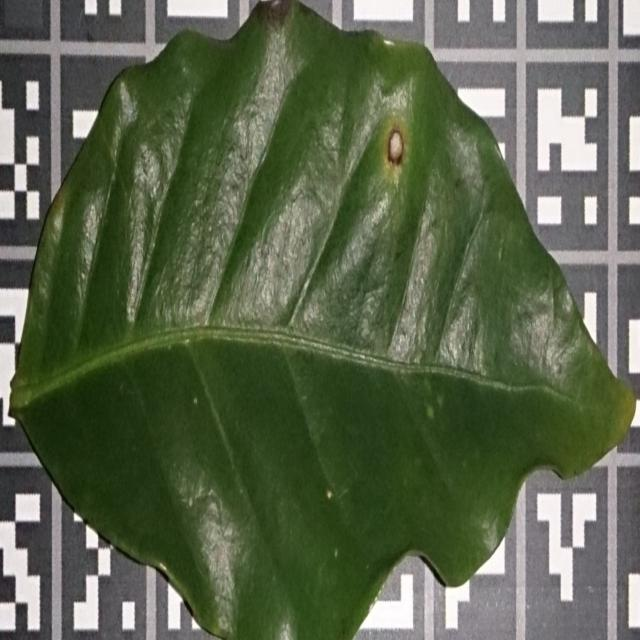Enfermedad-Mancha-de-hierro: (9, 0, 637, 640)
